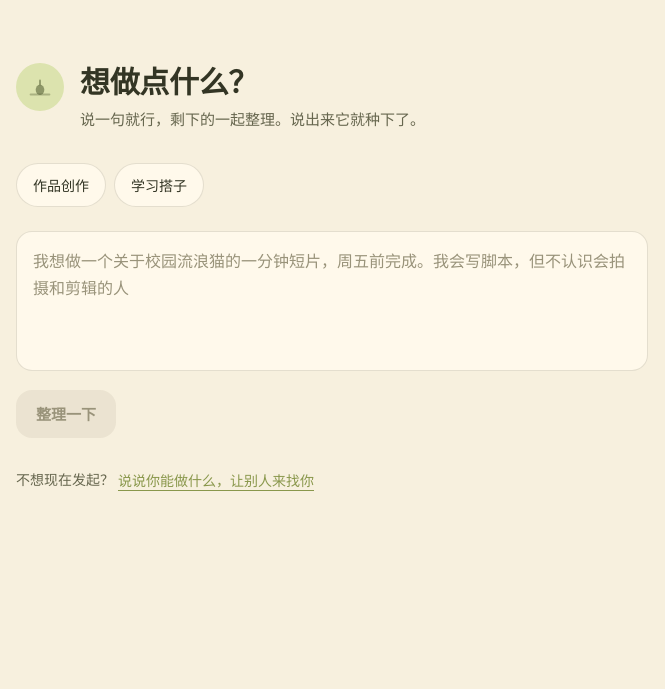
Scenario: 整理出来的卡片 › 待定的事会单独列出来给真人决定
Click the button "作品创作": {"x": 61, "y": 185} [16, 163, 106, 207]
(page scrolled)
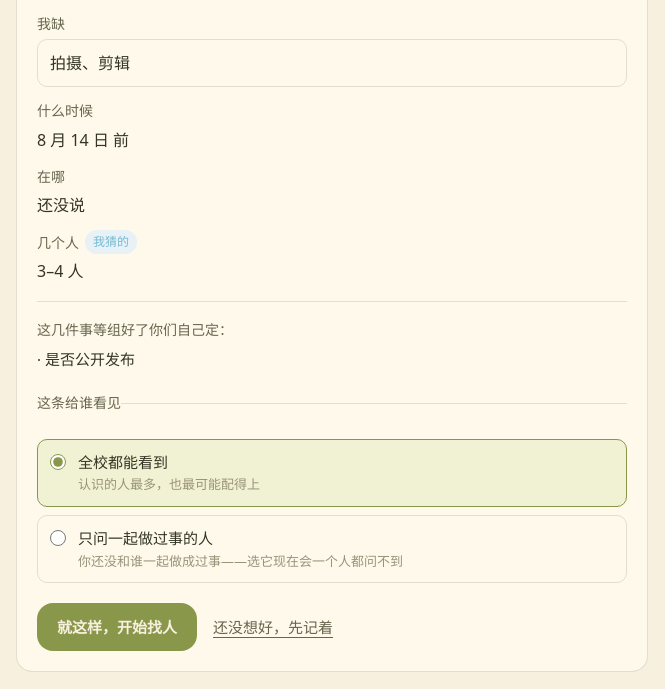
Expected: the list item "· 是否公开发布" is shown, [37, 349, 135, 369]
